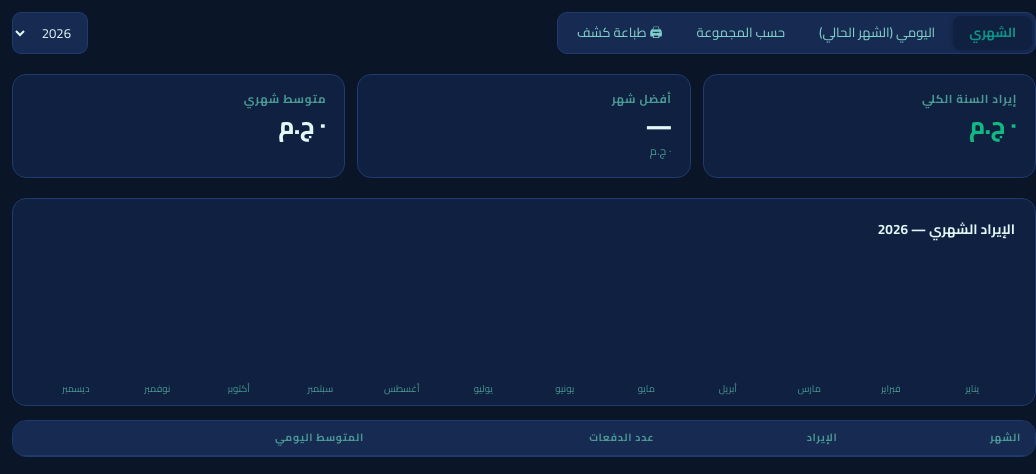
Test: PaymentReports (print tab, "بالطالب" mode) — group-scoped student selector is now searchable › renders a disabled search combobox with a "pick a group first" placeholder until a group is chosen
The image size is (1036, 474).
Click the button "🖨 طباعة كشف".
click(620, 33)  # box [561,16,678,50]
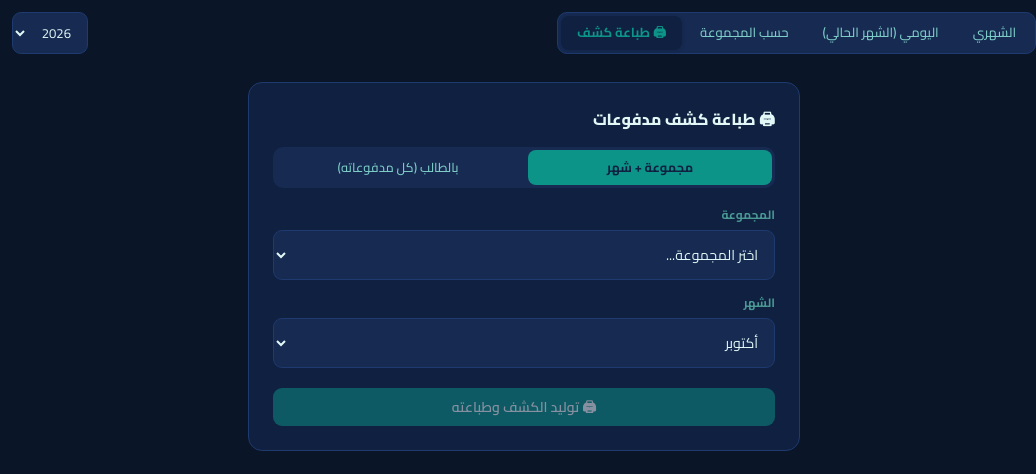
Click the button "بالطالب (كل مدفوعاته)".
click(398, 168)  # box [276,150,520,185]
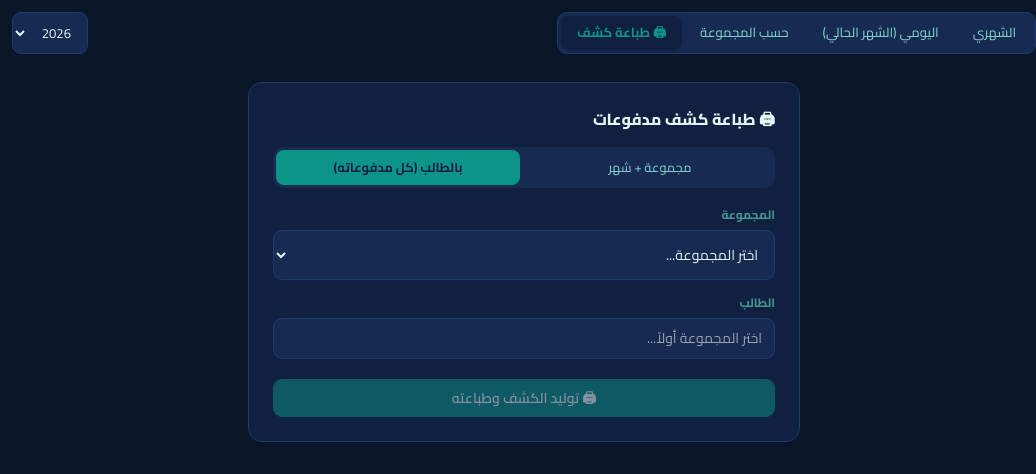
Now the button "🖨 توليد الكشف وطباعته" is disabled, box [273,379,775,417]
Now the dropdown with placeholder "اختر المجموعة أولاً..." is disabled, box [273,318,775,359]
